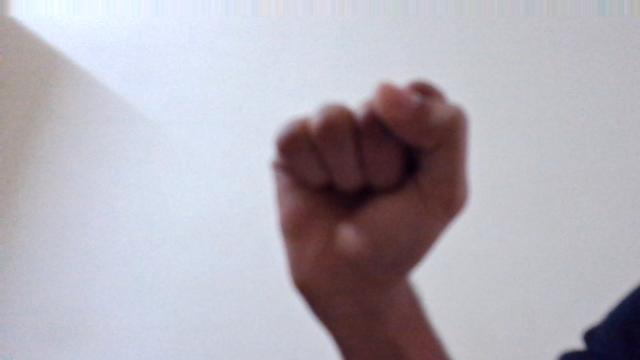Front: (270, 78, 469, 295)
